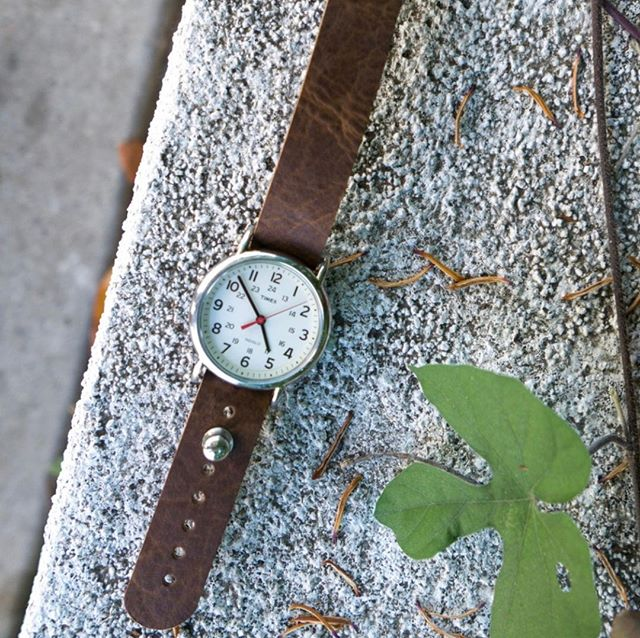wristwatch: (114, 9, 453, 615)
